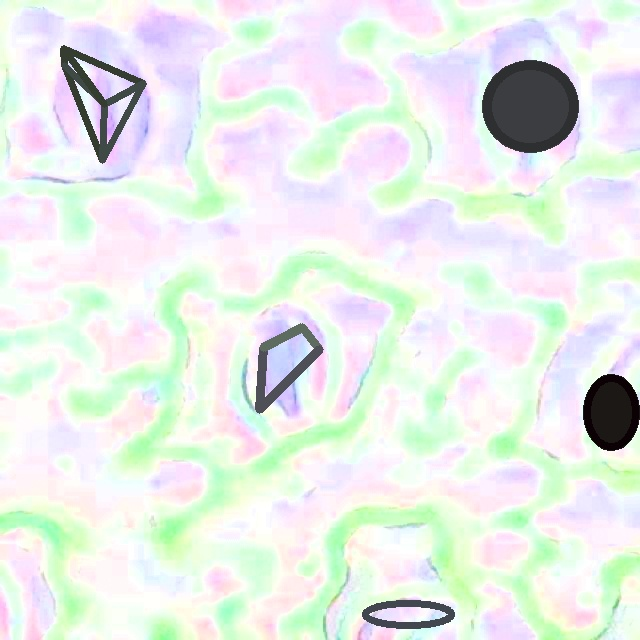open: (61, 45, 146, 163), (481, 59, 578, 153), (259, 323, 323, 413), (584, 373, 638, 450), (361, 601, 455, 627)
